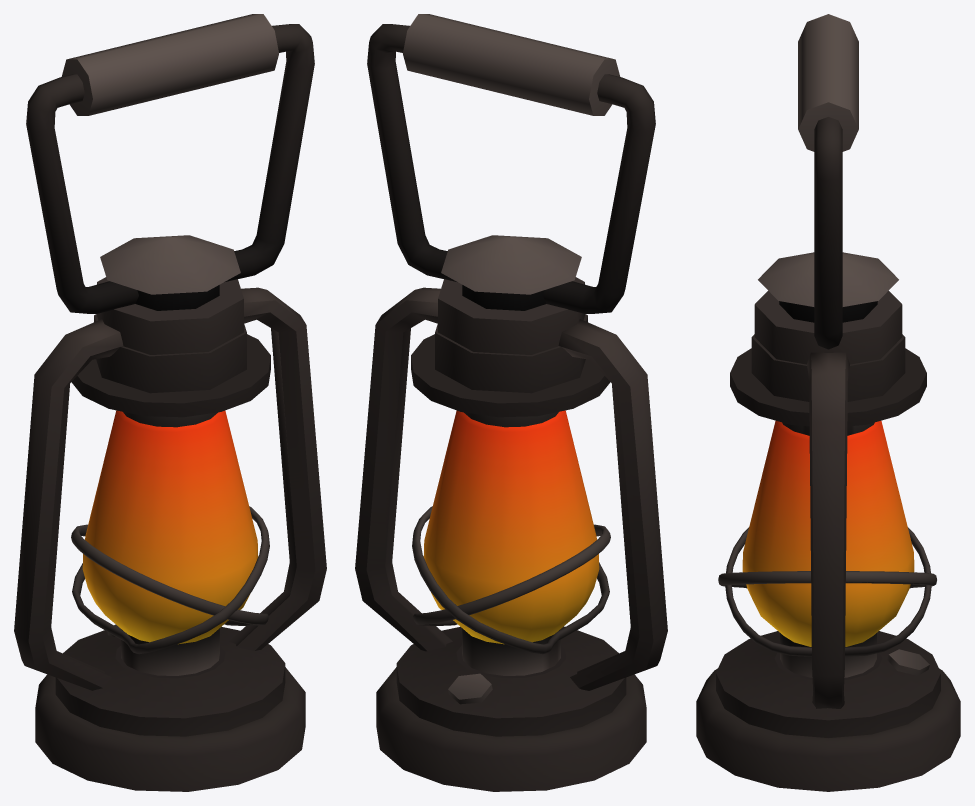
The model's file is Lamp.fbx.
3 views of the same model, side by side, from view 1: azimuth 30°, elevation 25°; view 2: azimuth 150°, elevation 25°; view 3: azimuth 270°, elevation 25° (orthographic). The views are drawn at different scales.
Parts seen in each view (by area): view 1: Окружность.057, Куб.088; view 2: Окружность.057, Куб.088; view 3: Окружность.057, Куб.088.
Boxes of the visible parts, bbox=[...] form: Окружность.057: bbox=[14, 235, 326, 791]; Куб.088: bbox=[26, 14, 314, 313]; Окружность.057: bbox=[355, 235, 667, 791]; Куб.088: bbox=[367, 14, 655, 313]; Окружность.057: bbox=[696, 252, 960, 791]; Куб.088: bbox=[798, 14, 858, 349].
Size of the model in its own units: 73.88 by 161 by 57.05.
Materials: 1 (1 with a texture image).
